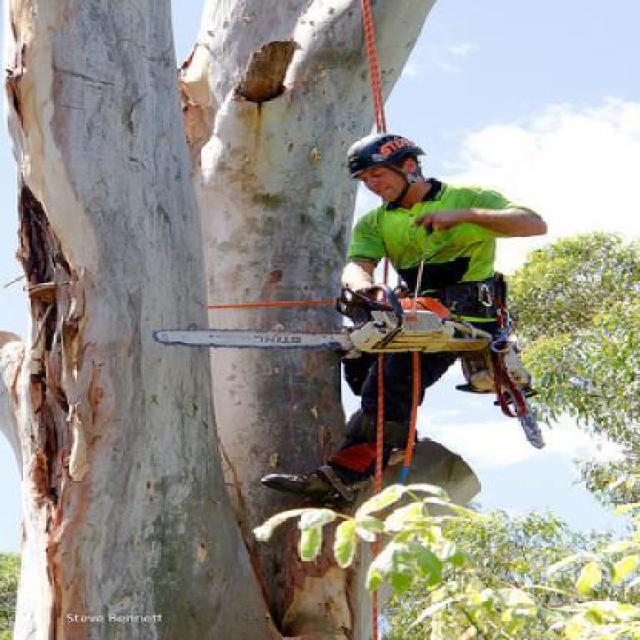Chainsaw: (151, 282, 491, 364)
